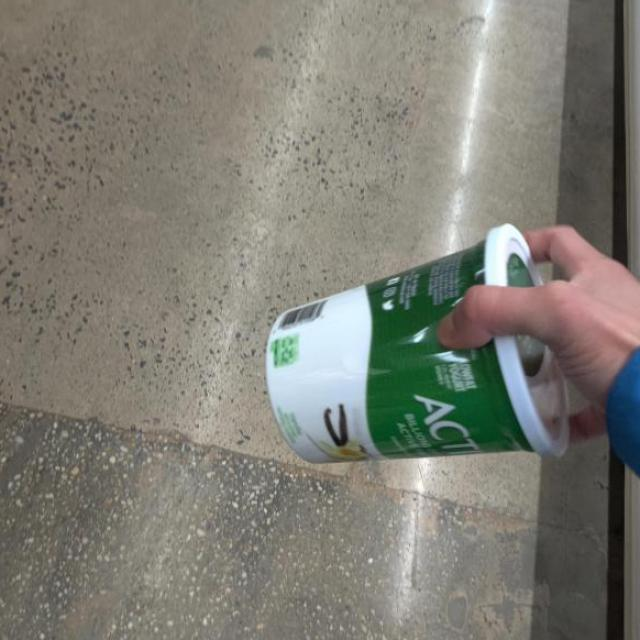Yogurt: (236, 210, 599, 503)
